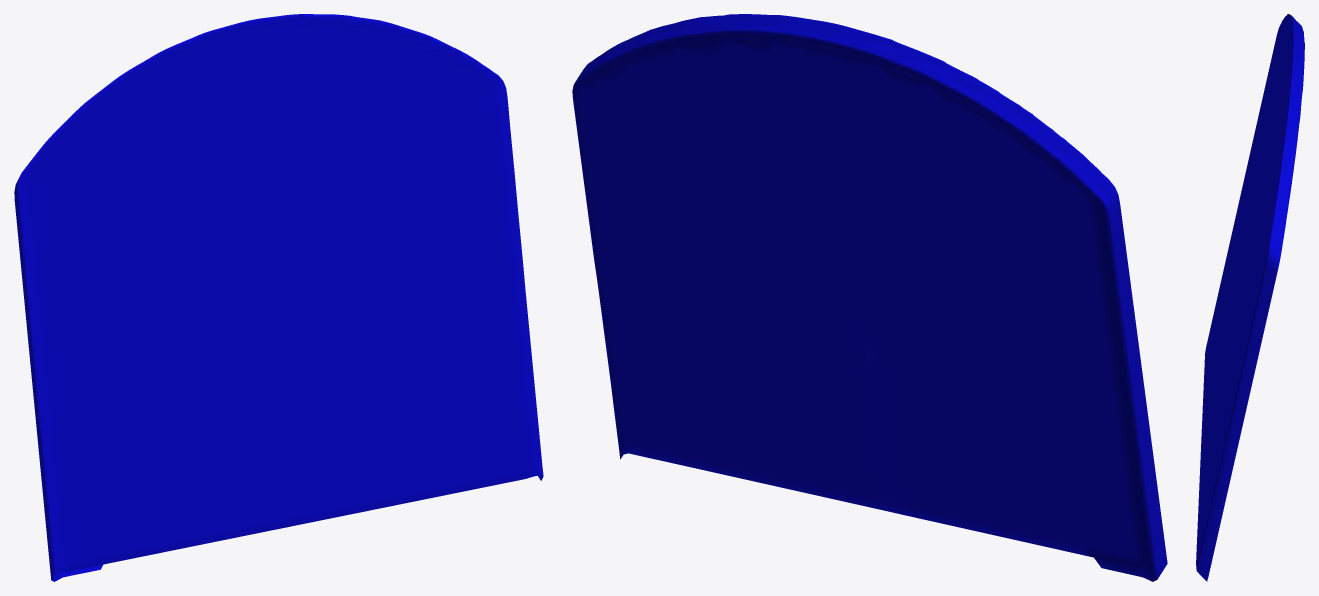
3 renders of one model, left to right at view 1: azimuth 30°, elevation 25°; view 2: azimuth 150°, elevation 25°; view 3: azimuth 270°, elevation 25°, orthographic. The views are drawn at different scales.
Bounding box in the file's own units: 0.748 × 0.7052 × 0.1632.
